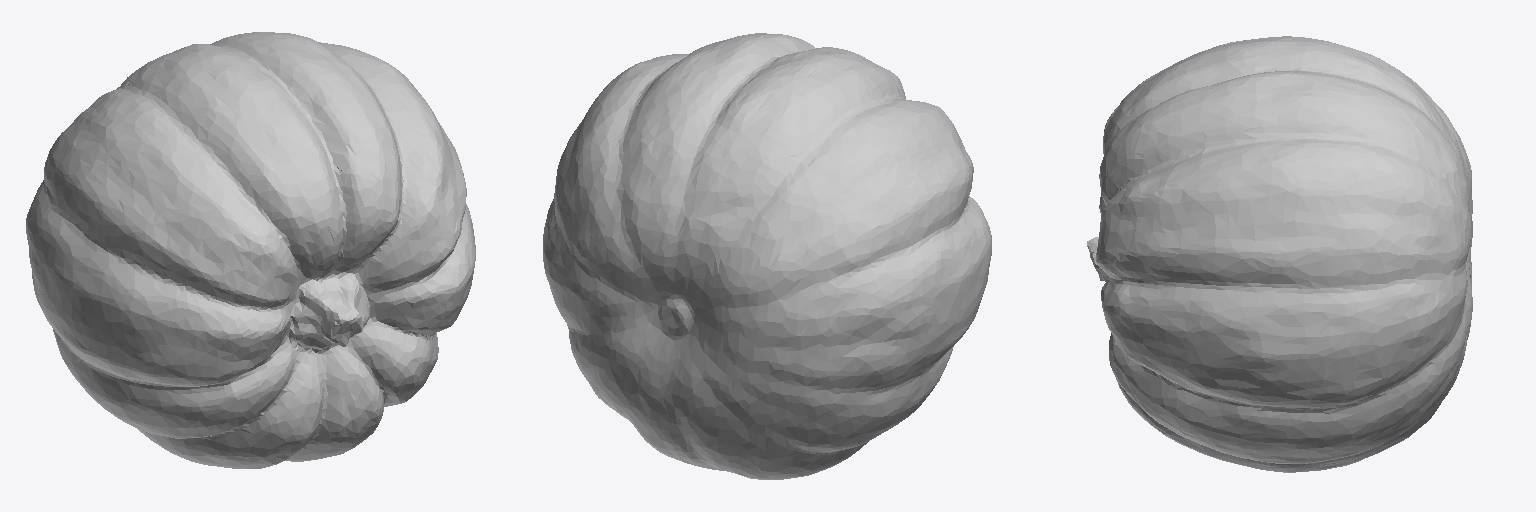
File: pumpkin.obj
3 views of the same model, side by side, from view 1: azimuth 30°, elevation 25°; view 2: azimuth 150°, elevation 25°; view 3: azimuth 270°, elevation 25° (orthographic).
Visible parts, largest first — view 1: pumpkin; view 2: pumpkin; view 3: pumpkin.
Part boxes in pixels (left/top/right/bottom): pumpkin: left=26, top=32, right=475, bottom=468; pumpkin: left=543, top=33, right=991, bottom=479; pumpkin: left=1087, top=36, right=1472, bottom=472.
Bounding box in the file's own units: 79.14 × 76.94 × 68.4.